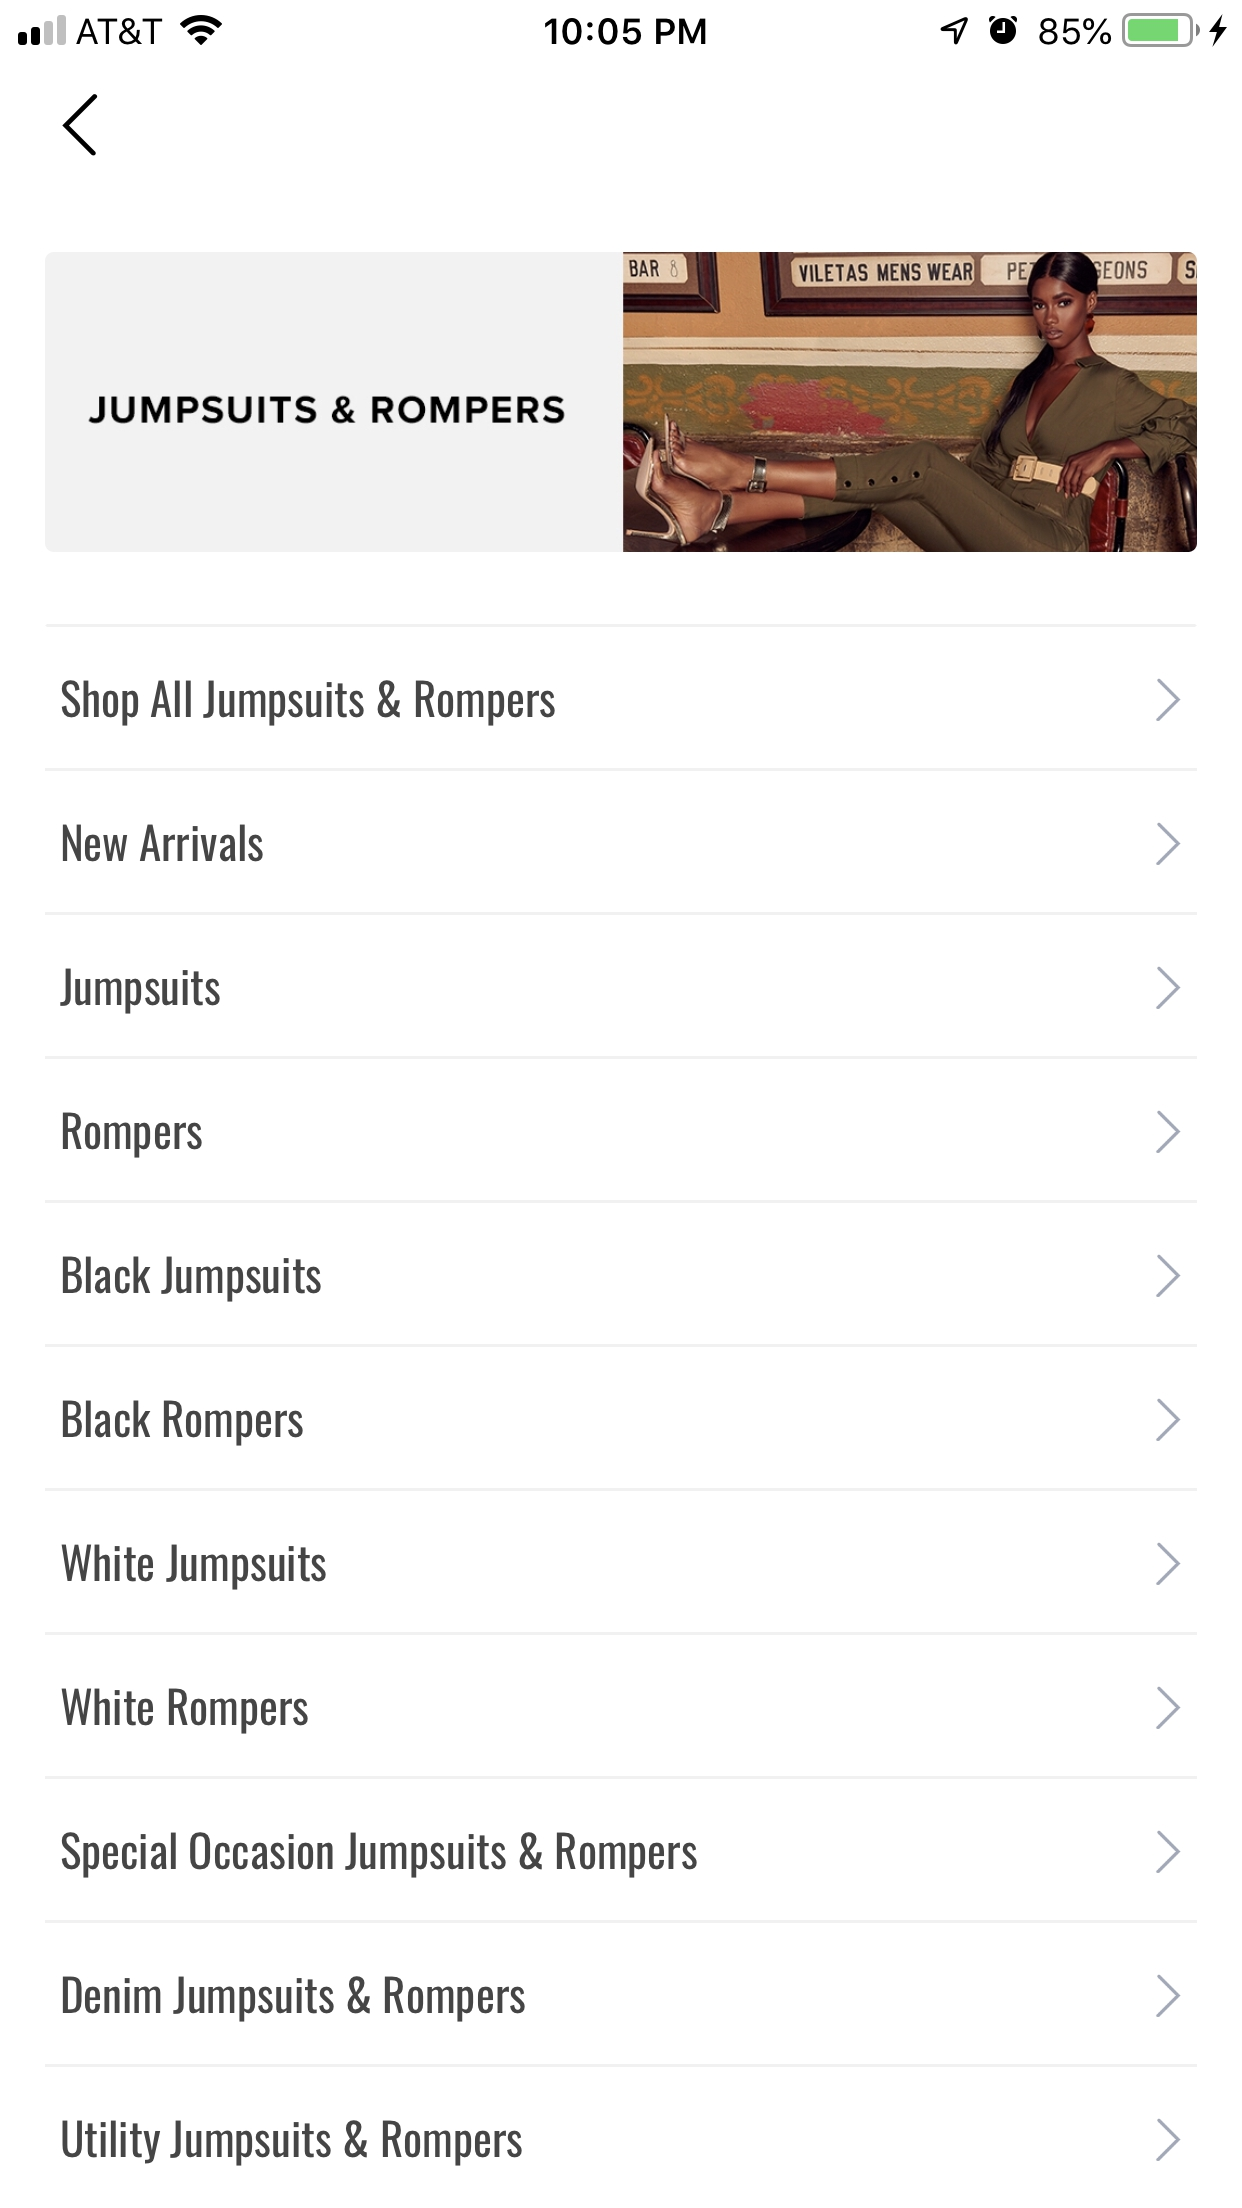Icon: (62, 94, 99, 158), (1156, 2119, 1181, 2163), (1156, 1974, 1181, 2018), (1156, 1830, 1181, 1874), (1156, 1686, 1181, 1730), (1156, 1542, 1181, 1586), (1156, 1398, 1181, 1442), (1156, 1110, 1181, 1154), (1156, 966, 1181, 1010), (1156, 822, 1181, 866), (1156, 678, 1181, 722), (1156, 1256, 1181, 1298)
Image: (623, 252, 1198, 554)
Text: (61, 1830, 698, 1879), (62, 679, 557, 726), (62, 1974, 526, 2023), (64, 2119, 525, 2166), (88, 394, 566, 425), (62, 1542, 328, 1591), (64, 1256, 323, 1303), (62, 1686, 309, 1735), (62, 1400, 303, 1447), (64, 823, 265, 863), (61, 968, 221, 1015), (64, 1112, 205, 1159)
UpperTaskBar: (2, 2, 1242, 49)
